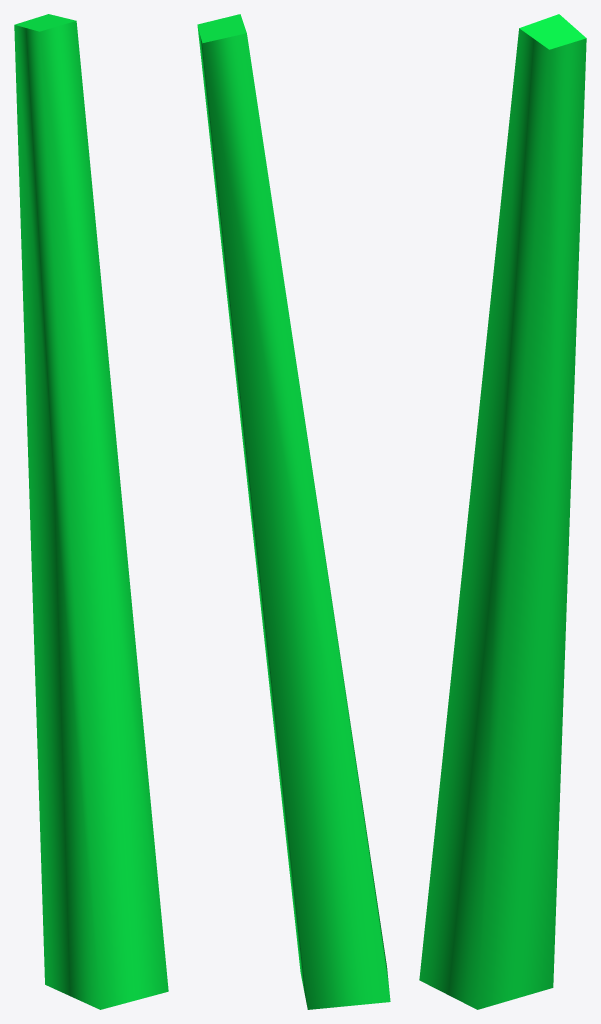
Rendered from Plant03_f_col.FBX.
The picture shows the model from 3 angles, left to right: view 1: azimuth 90°, elevation 25°; view 2: azimuth 150°, elevation 25°; view 3: azimuth 270°, elevation 25°; orthographic projection. The views are drawn at different scales.
Visible parts, largest first — view 1: Plant03_f_col; view 2: Plant03_f_col; view 3: Plant03_f_col.
Part boxes in pixels (x1,y1,x2,y2): Plant03_f_col: (14, 14, 168, 1009); Plant03_f_col: (197, 14, 390, 1009); Plant03_f_col: (419, 14, 586, 1009).
Bounding box in the file's own units: 76.27 × 423 × 63.93.
